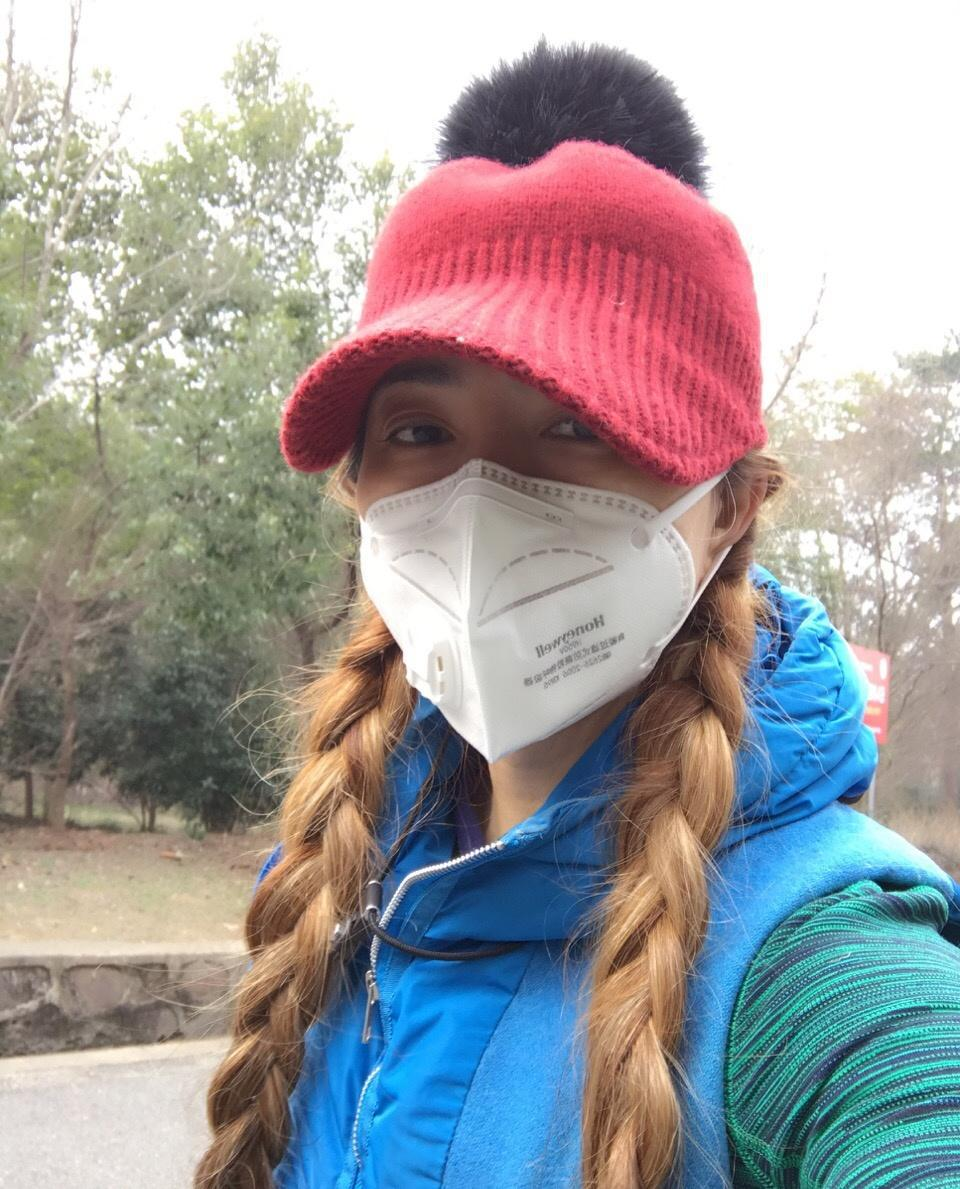OK: (329, 359, 731, 761)
